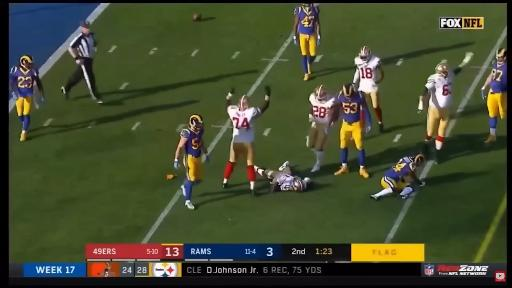Helmet: (189, 115, 203, 131), (293, 177, 307, 191), (238, 95, 250, 111), (315, 85, 327, 101), (20, 55, 33, 69), (359, 46, 371, 61), (496, 48, 507, 64), (436, 63, 449, 76), (342, 83, 354, 97), (414, 153, 424, 166), (302, 4, 312, 12)
Jersey: (228, 106, 261, 142), (425, 72, 454, 108), (354, 56, 380, 93), (10, 66, 38, 97), (384, 157, 416, 181), (310, 94, 335, 124), (294, 7, 319, 35), (339, 94, 363, 123), (181, 128, 203, 158), (490, 61, 507, 93), (275, 173, 300, 191)
Player: (418, 55, 471, 163), (223, 86, 270, 194), (334, 84, 371, 178), (174, 115, 209, 209), (10, 55, 44, 141), (353, 46, 384, 132), (371, 154, 424, 200), (307, 86, 335, 172), (482, 48, 507, 143), (293, 4, 320, 80), (255, 162, 311, 192)
